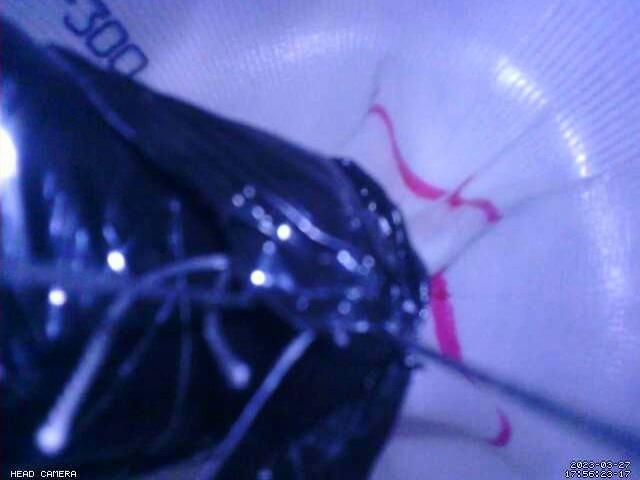red-circle: (367, 104, 513, 446)
